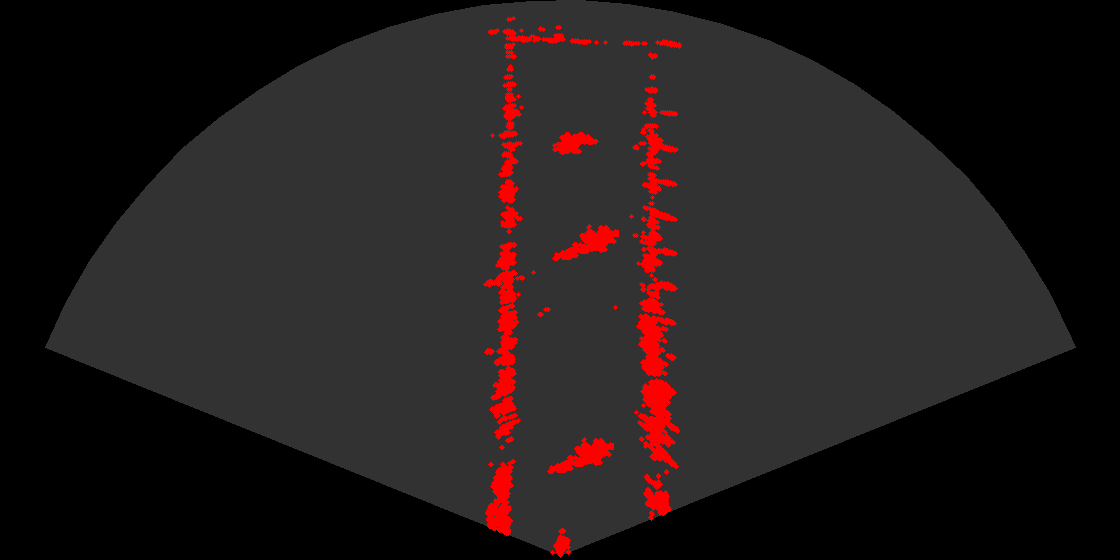AUV: (546, 130, 602, 162)
frogman: (546, 431, 614, 478), (551, 218, 619, 265)
